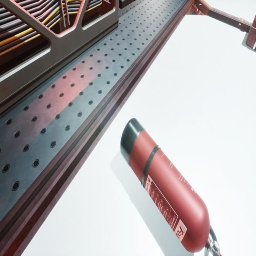FireExtinguisher ]: (120, 118, 222, 256)
FirstAidBox ,: (245, 14, 256, 51)
